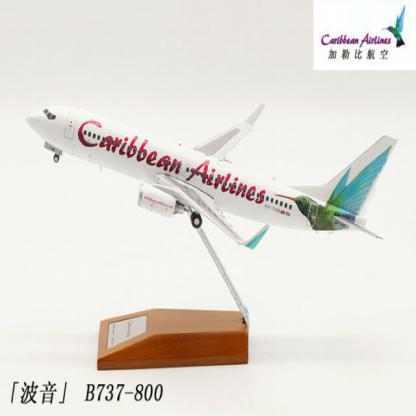CIV_Plane: (19, 94, 397, 255)
